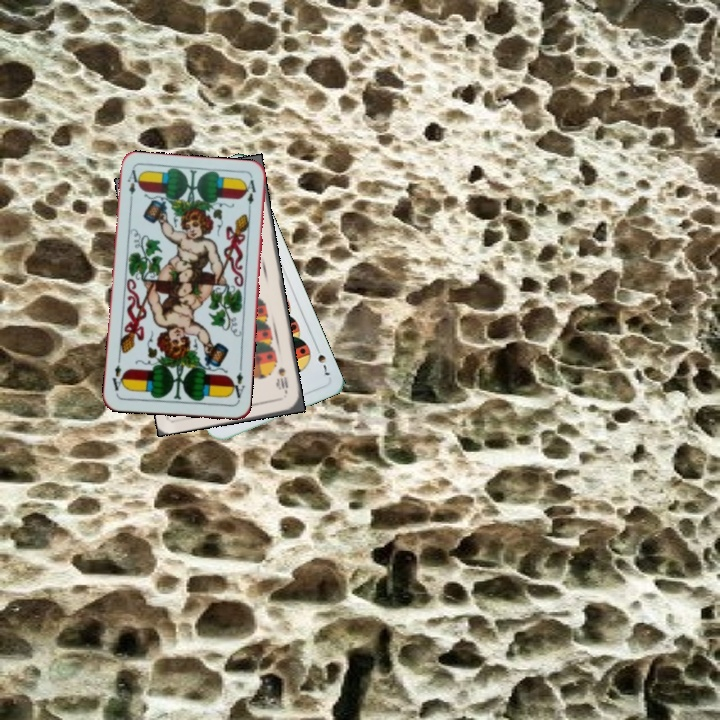EA: (227, 363, 247, 404), (123, 166, 142, 207)
S10: (274, 363, 291, 396)
S7: (311, 341, 333, 378)
